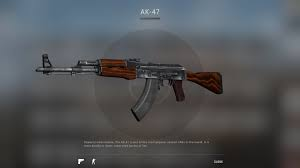gun: (32, 50, 225, 123)
